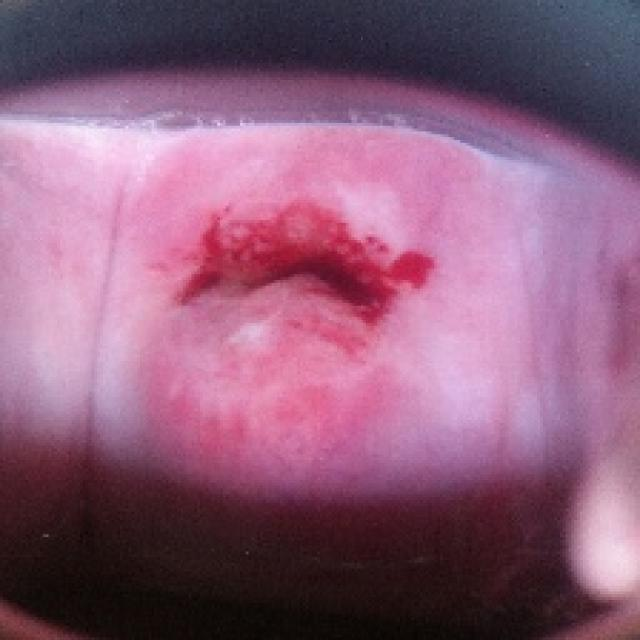type-2: (118, 132, 541, 602)
